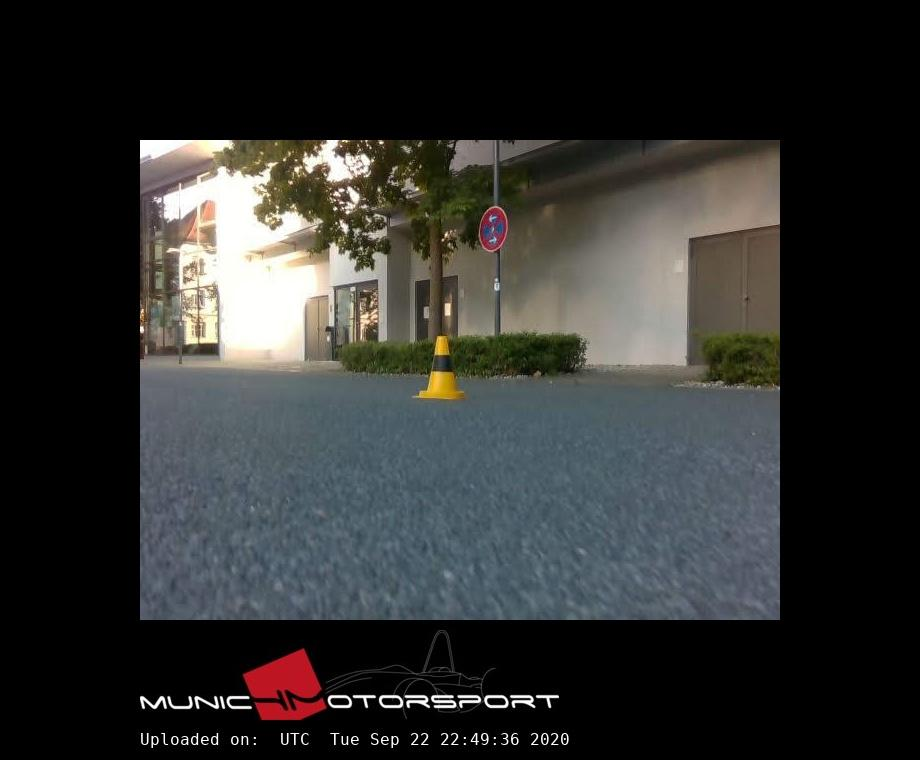yellow_cone: (413, 335, 466, 399)
